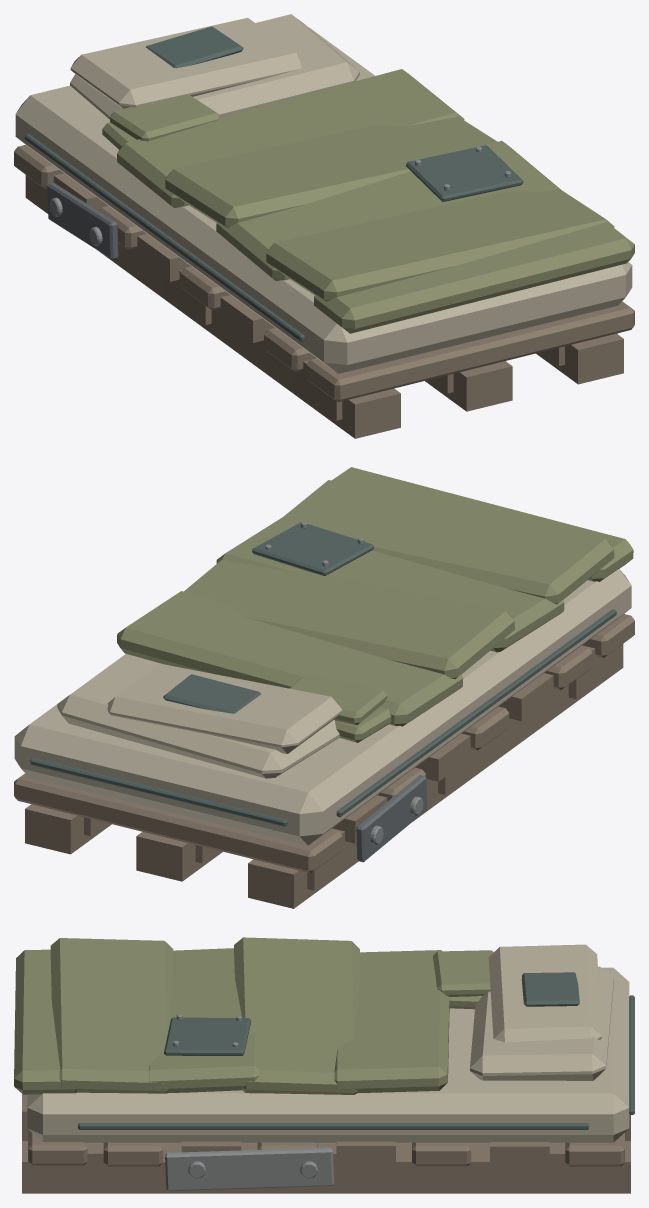
File: bed.glb
The picture shows the model from 3 angles, top to bottom: view 1: azimuth 30°, elevation 25°; view 2: azimuth 150°, elevation 25°; view 3: azimuth 270°, elevation 25°; orthographic projection. The views are drawn at different scales.
Parts seen in each view (by area): view 1: bed; view 2: bed; view 3: bed.
Boxes of the visible parts, x1,y1,x2,y2 form: bed: [14, 14, 634, 438]; bed: [14, 467, 634, 908]; bed: [14, 937, 634, 1193].
Size of the model in its own units: 0.997 by 0.4506 by 1.77.
